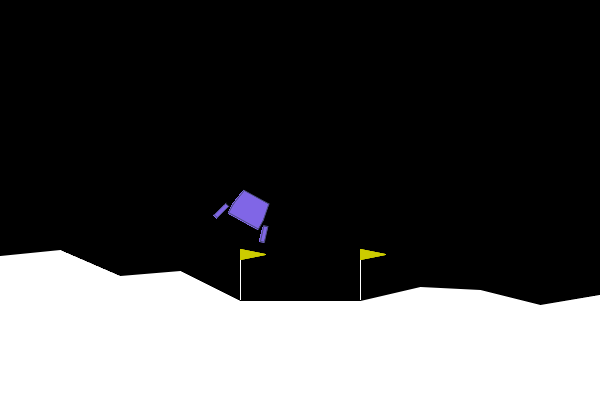lander: (212, 181, 283, 245)
